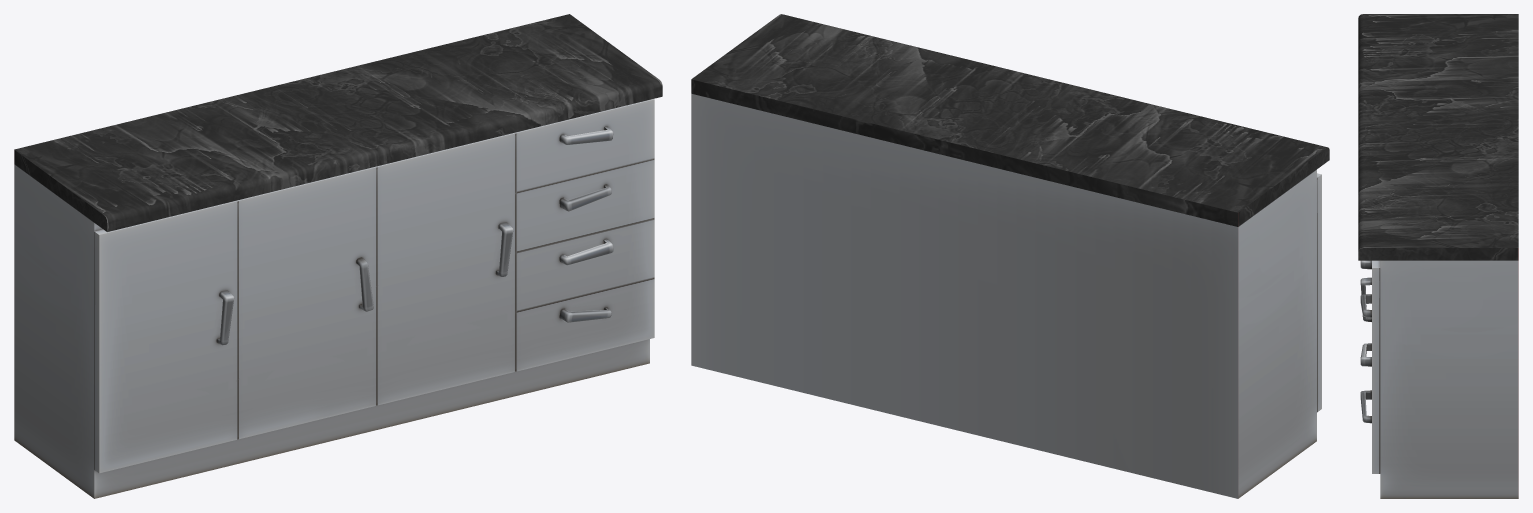
The model's file is CafeBarStand01_3.FBX.
3 renders of one model, left to right at view 1: azimuth 30°, elevation 25°; view 2: azimuth 150°, elevation 25°; view 3: azimuth 270°, elevation 25°, orthographic. The views are drawn at different scales.
Parts seen in each view (by area): view 1: CafeBarStand01_3; view 2: CafeBarStand01_3; view 3: CafeBarStand01_3.
Boxes of the visible parts, x1,y1,x2,y2 form: CafeBarStand01_3: (14, 14, 662, 498); CafeBarStand01_3: (691, 14, 1329, 498); CafeBarStand01_3: (1358, 14, 1518, 498).
Size of what is drawn, in the model's own units: 2 by 1 by 0.58.
